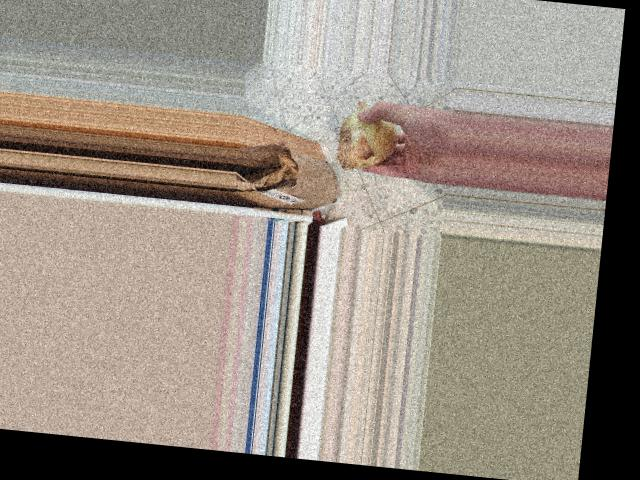onion: (330, 103, 403, 174)
